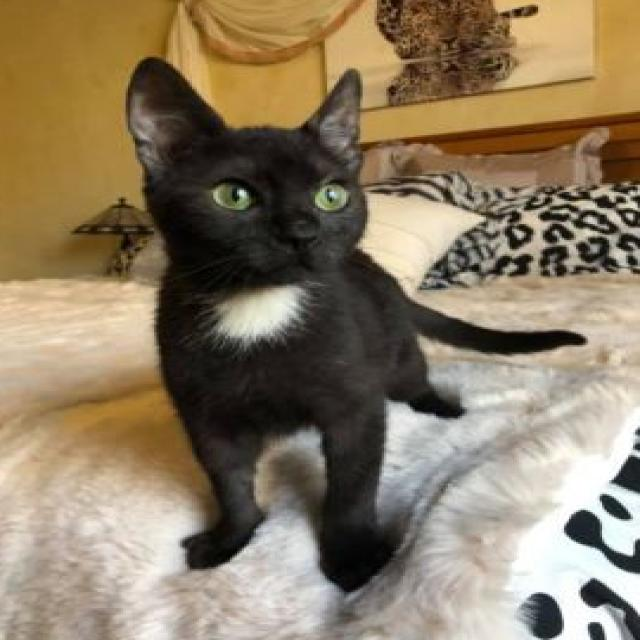Tuxedo: (121, 54, 589, 598)
